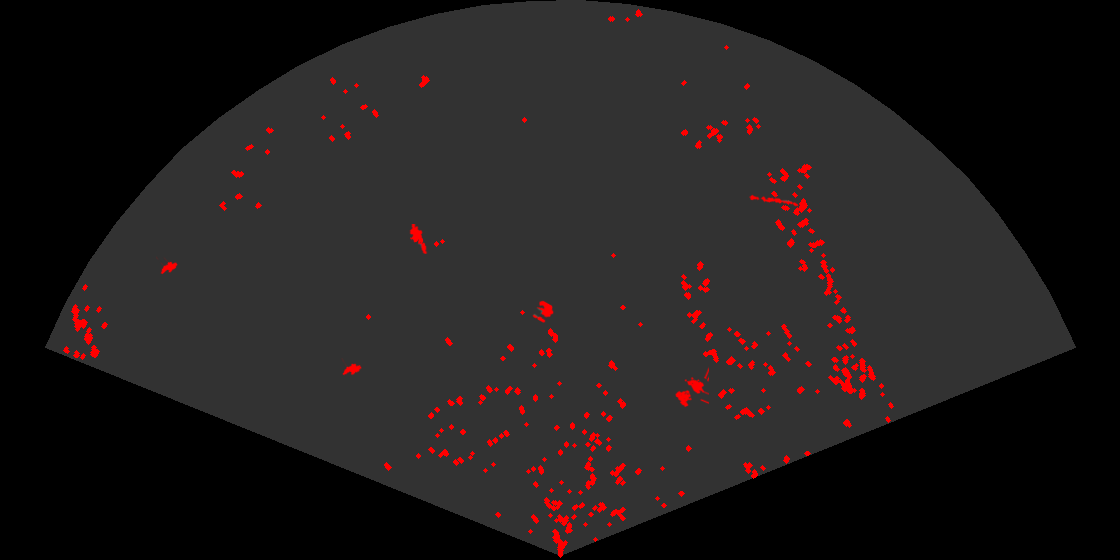AUV: (156, 256, 179, 276), (340, 358, 363, 377)
ball: (531, 299, 555, 324)
cage: (674, 366, 709, 409)
chain: (749, 193, 800, 208)
frogman: (408, 224, 428, 254)
